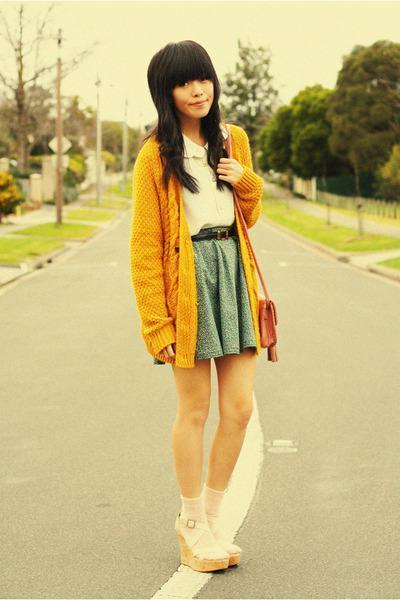jacket: (131, 123, 264, 364)
short sleeve shirt: (171, 127, 238, 233)
skirt: (161, 222, 258, 362)
